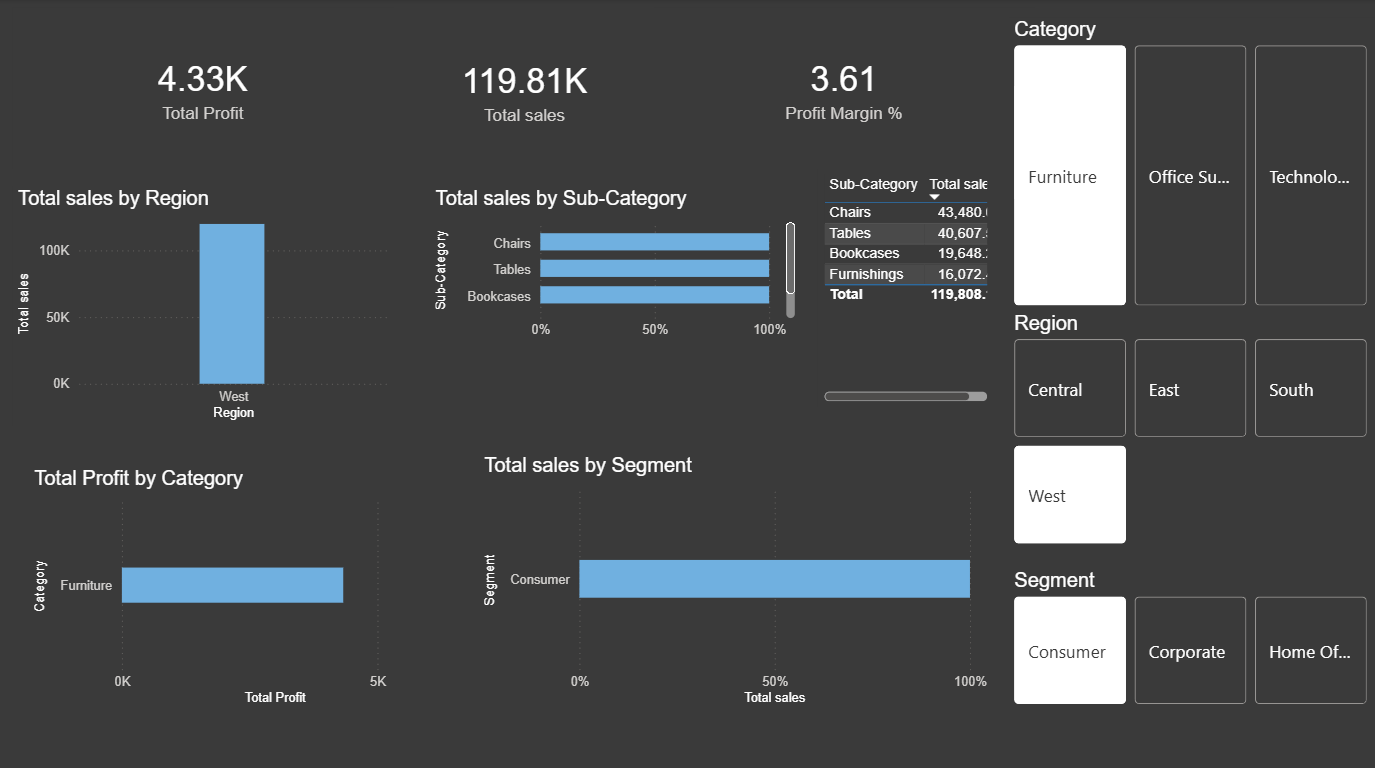

This screenshot's page, from the dashboard's own definition file:
{"tool":"powerbi","page":{"name":"Page 1","canvas":[1280,720],"ordinal":0},"visuals":[{"type":"card","fields":{"Values":["samplesuperstore clean.Total sales"]},"box":[312.9,42.5,352.7,83.7],"z":0},{"type":"card","fields":{"Values":["samplesuperstore clean.Total Profit"]},"box":[12.3,8.2,354,149.6],"z":1000},{"type":"card","fields":{"Values":["samplesuperstore clean.Profit Margin %"]},"box":[609.3,8.2,354,149.6],"z":2000},{"type":"clusteredColumnChart","fields":{"Category":["samplesuperstore clean.Region"],"Y":["samplesuperstore clean.Total sales"]},"box":[12.3,174.3,354,222.3],"z":3000},{"type":"clusteredBarChart","fields":{"Category":["samplesuperstore clean.Category"],"Y":["samplesuperstore clean.Total Profit"]},"box":[27.9,434.9,384.9,226.7],"z":4000},{"type":"hundredPercentStackedBarChart","fields":{"Category":["samplesuperstore clean.Sub-Category"],"Y":["samplesuperstore clean.Total sales"]},"box":[400.7,174.3,344.4,149.6],"z":4001},{"type":"tableEx","fields":{"Values":["samplesuperstore clean.Sub-Category","samplesuperstore clean.Total sales"]},"box":[761.6,158.1,162.8,220.9],"z":4002},{"type":"advancedSlicerVisual","fields":{"Values":["samplesuperstore clean.Category"]},"box":[940,17.8,340.3,273.1],"z":4003},{"type":"advancedSlicerVisual","fields":{"Values":["samplesuperstore clean.Region"]},"box":[940,290.9,340.3,220.9],"z":4004},{"type":"advancedSlicerVisual","fields":{"Values":["samplesuperstore clean.Segment"]},"box":[940,529.7,340.3,131.7],"z":4005},{"type":"hundredPercentStackedBarChart","fields":{"Category":["samplesuperstore clean.Segment"],"Y":["samplesuperstore clean.Total sales"]},"box":[446.5,423.3,477.9,238.4],"z":4006}]}

Visuals, with their boxes in screenshot pixels (x1, y1, x2, y2), scaled from the page's 1280x720 canvas onto the 1375x768 screenshot:
card - samplesuperstore clean.Total sales: 336/45/715/135
card - samplesuperstore clean.Total Profit: 13/9/393/168
card - samplesuperstore clean.Profit Margin %: 655/9/1035/168
clusteredColumnChart - samplesuperstore clean.Region x samplesuperstore clean.Total sales: 13/186/393/423
clusteredBarChart - samplesuperstore clean.Category x samplesuperstore clean.Total Profit: 30/464/443/706
hundredPercentStackedBarChart - samplesuperstore clean.Sub-Category x samplesuperstore clean.Total sales: 430/186/800/345
tableEx - samplesuperstore clean.Sub-Category x samplesuperstore clean.Total sales: 818/169/993/404
advancedSlicerVisual - samplesuperstore clean.Category: 1010/19/1374/310
advancedSlicerVisual - samplesuperstore clean.Region: 1010/310/1374/546
advancedSlicerVisual - samplesuperstore clean.Segment: 1010/565/1374/705
hundredPercentStackedBarChart - samplesuperstore clean.Segment x samplesuperstore clean.Total sales: 480/452/993/706
